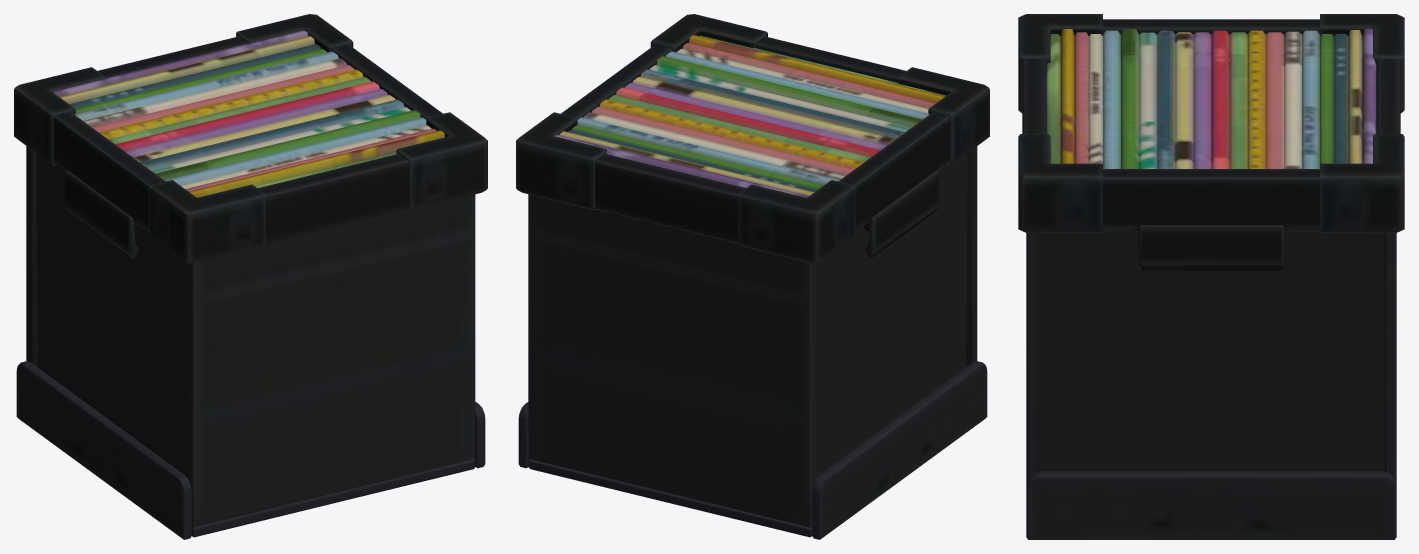
The picture shows the model from 3 angles, left to right: view 1: azimuth 30°, elevation 25°; view 2: azimuth 150°, elevation 25°; view 3: azimuth 270°, elevation 25°; orthographic projection. The views are drawn at different scales.
Bounding box in the file's own units: 6.36 × 6.5 × 6.24.
2 materials, 2 textured.
